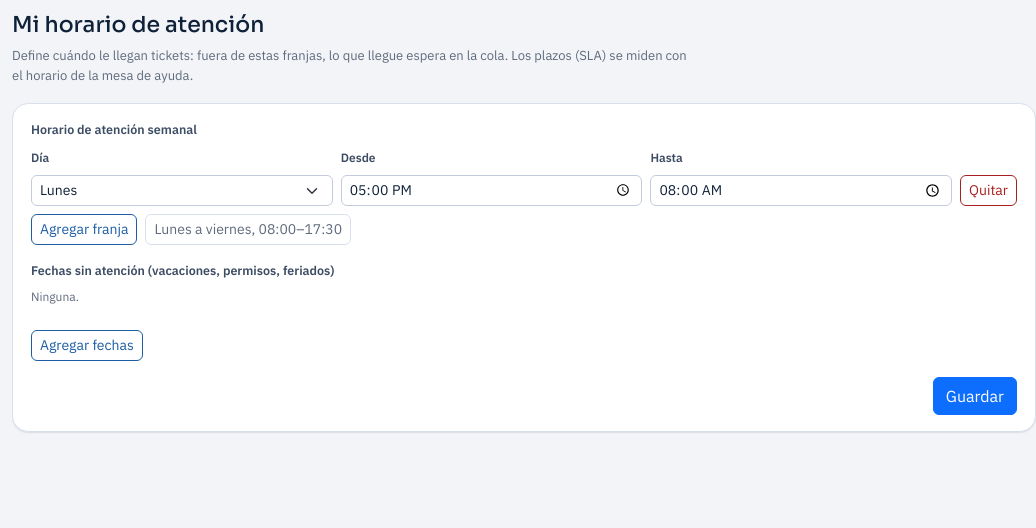
Test: Las franjas del horario › no guarda un horario con errores y dice dónde está el problema
expect the text "Los plazos (SLA) se miden con el horario" is shown: met, box x1=12 y1=47 x2=687 y2=84
Click the button "Guardar".
click(975, 396)  # box x1=933 y1=377 x2=1017 y2=415
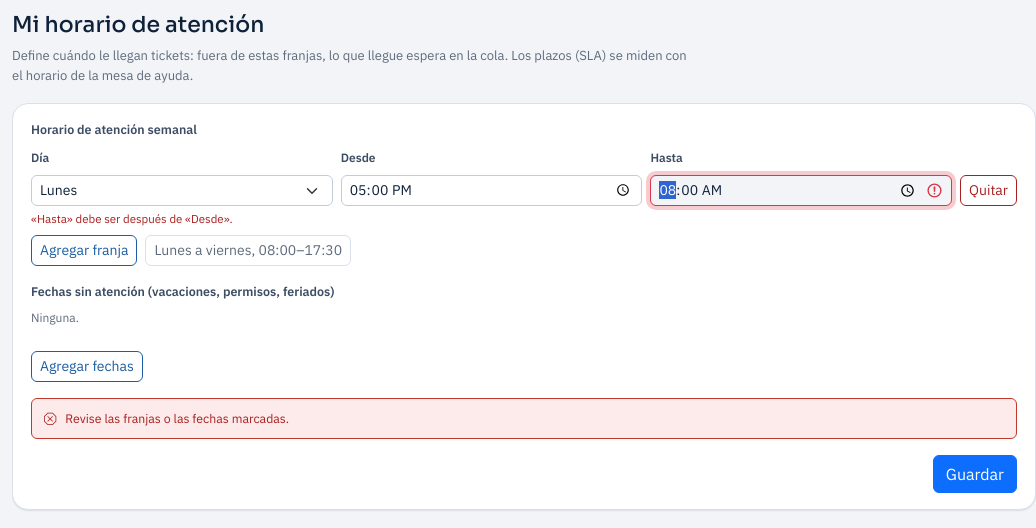
expect the message reads "Revise las franjas o las fechas marcadas.": met, box x1=65 y1=410 x2=289 y2=426
